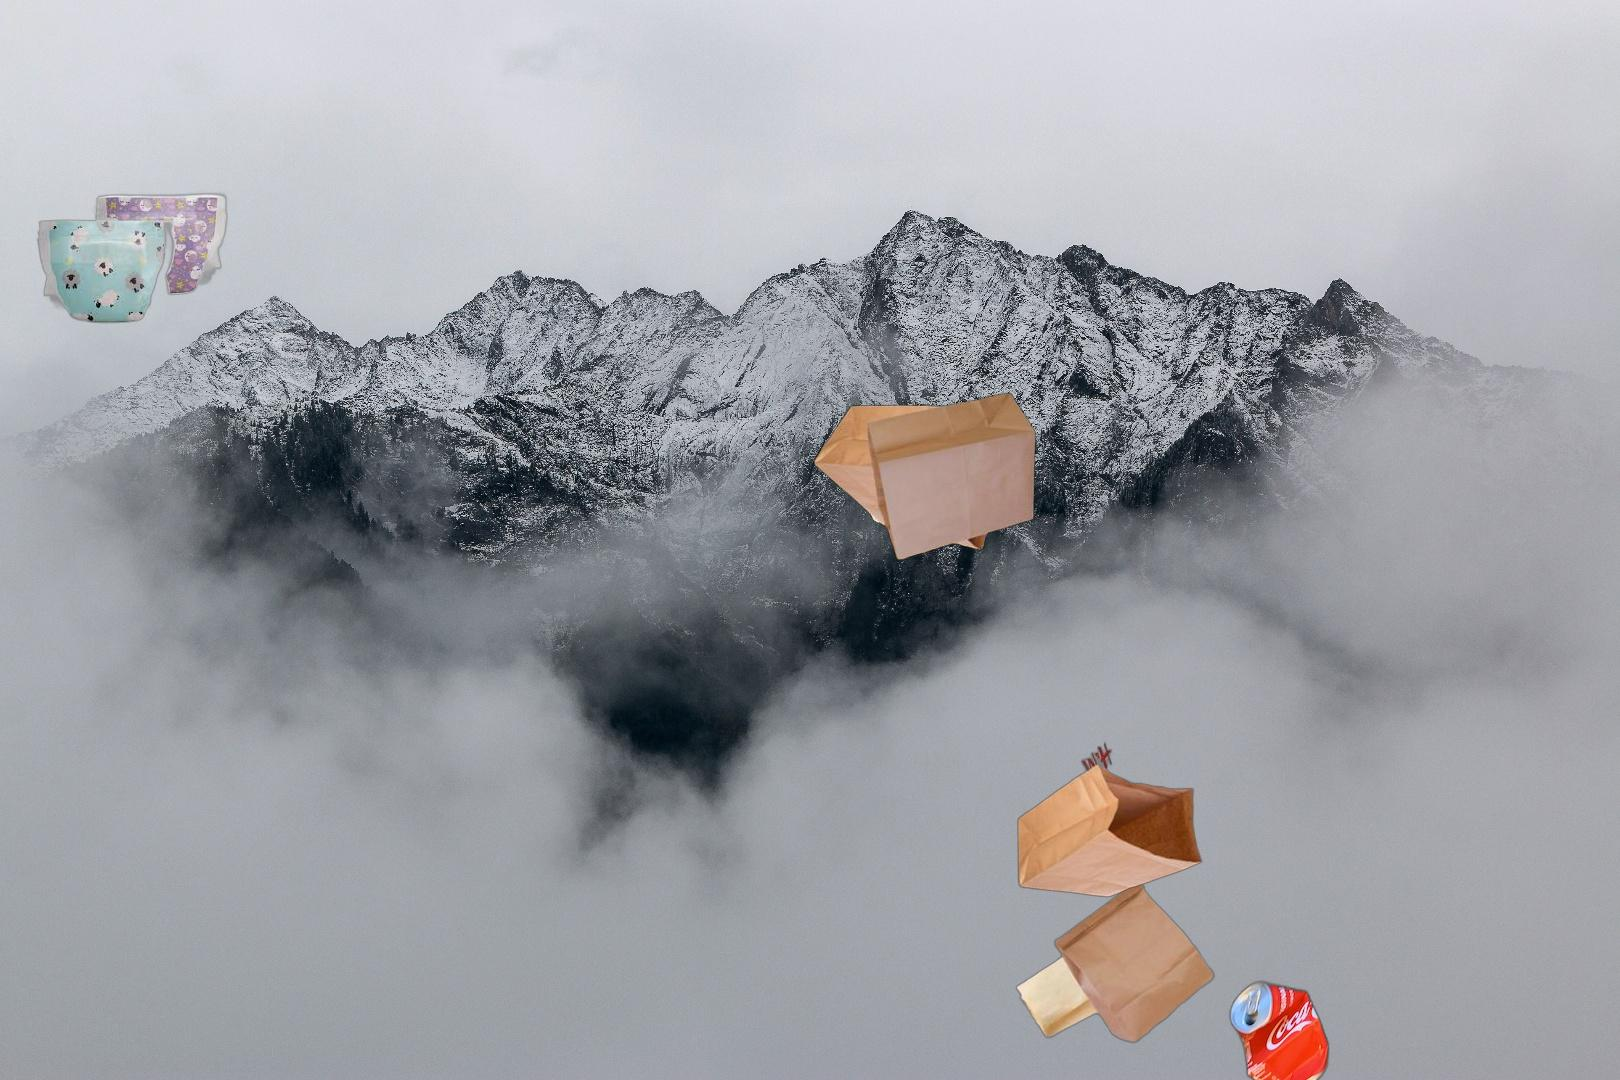metal-cans: (1226, 975, 1332, 1080)
paper-bag: (811, 391, 1038, 563), (1015, 880, 1217, 1045), (1016, 739, 1205, 900)
penholder: (1116, 1067, 1620, 1080)
trash: (35, 189, 237, 325)
